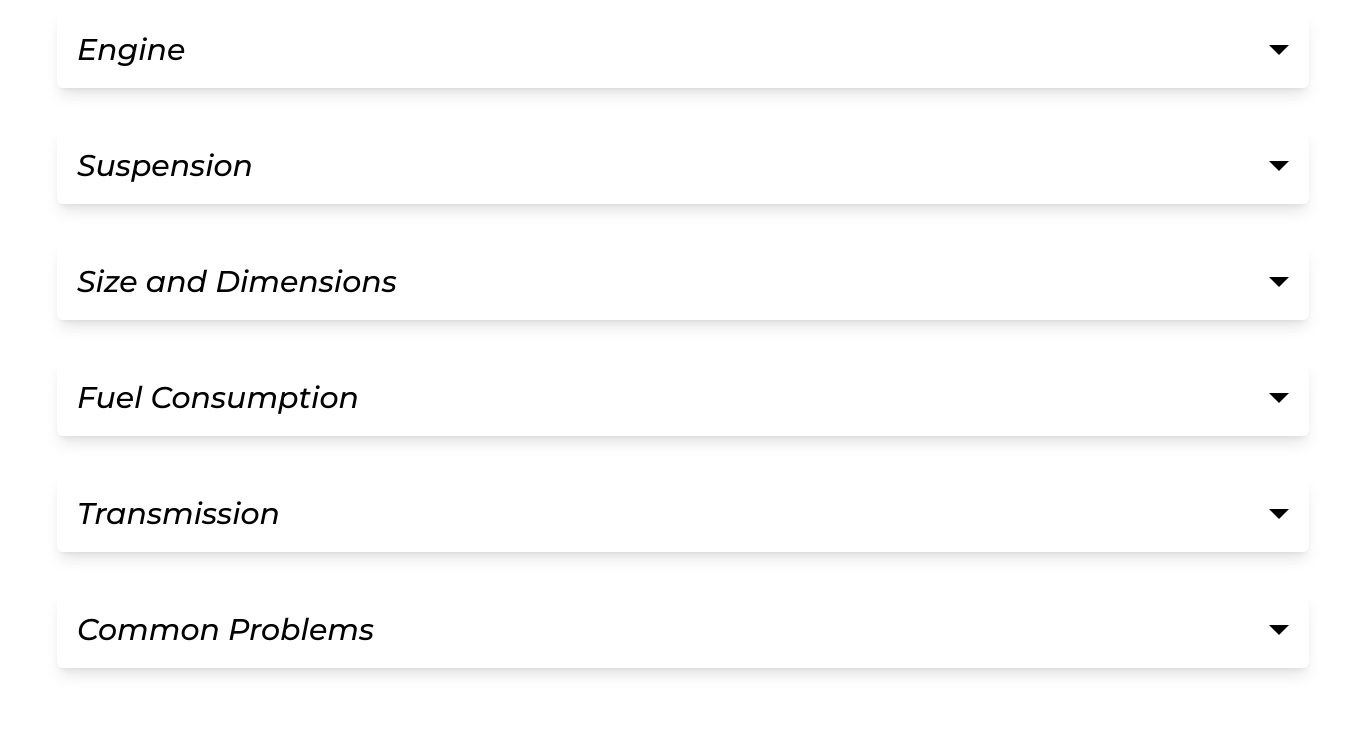
<CarSpecs /> Component › should fetch specs when button is clicked
Click the button "Engine" at (131, 50), box [57,12,1309,88]
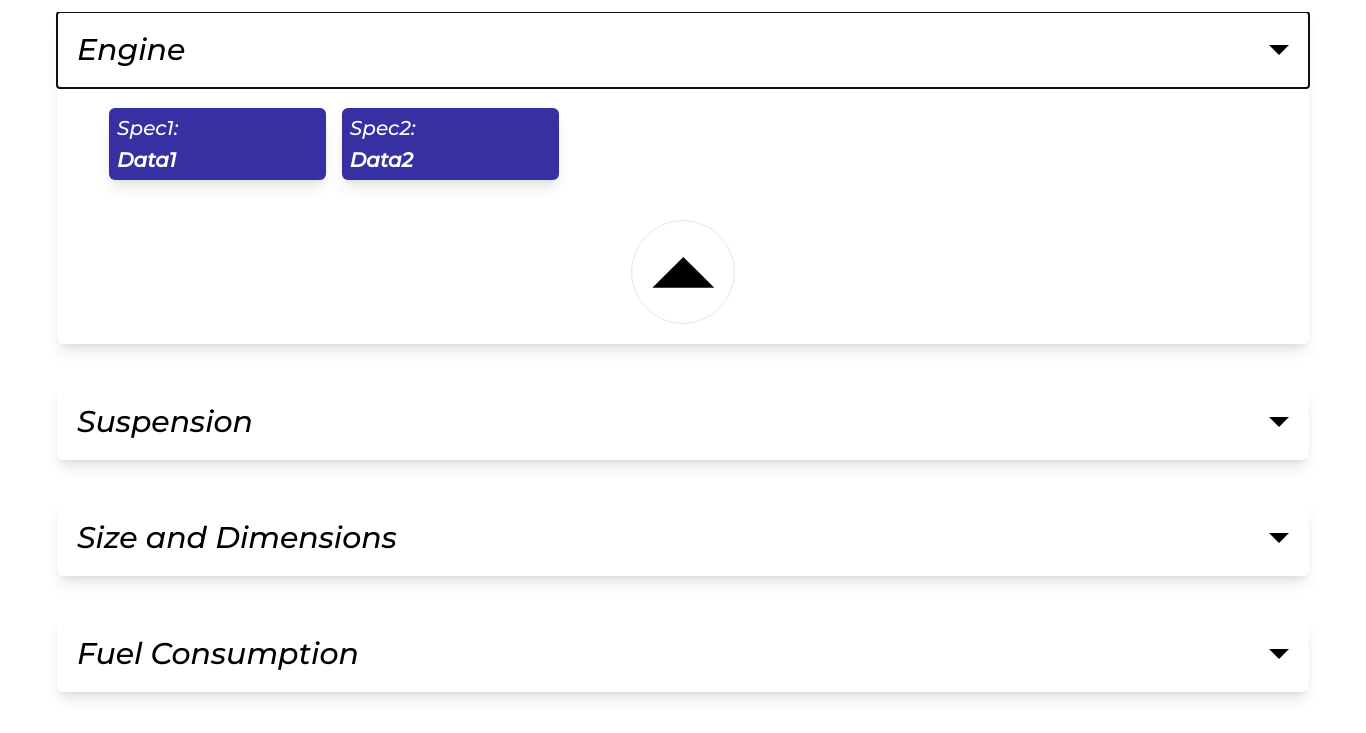
Expected: the text "Spec1:" is shown 2 times, [117,116,178,140]; [350,116,415,140]
Expected: the text "Data1" is shown 2 times, [117,148,176,172]; [350,148,413,172]
